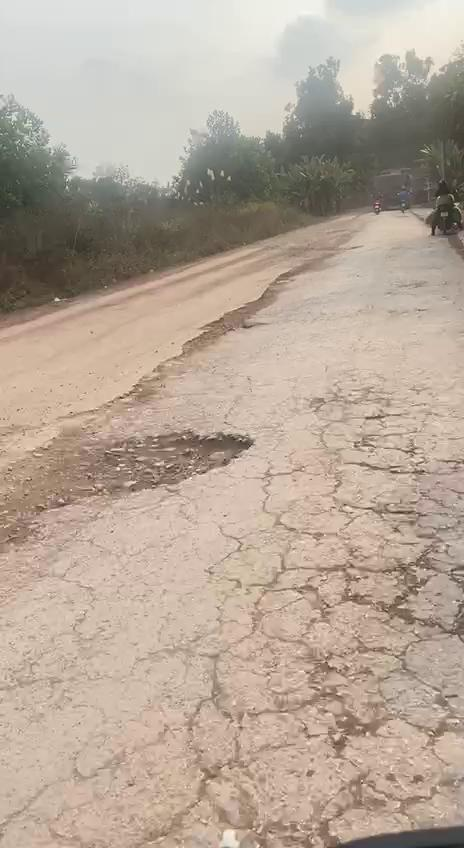pothole: (15, 426, 262, 514)
